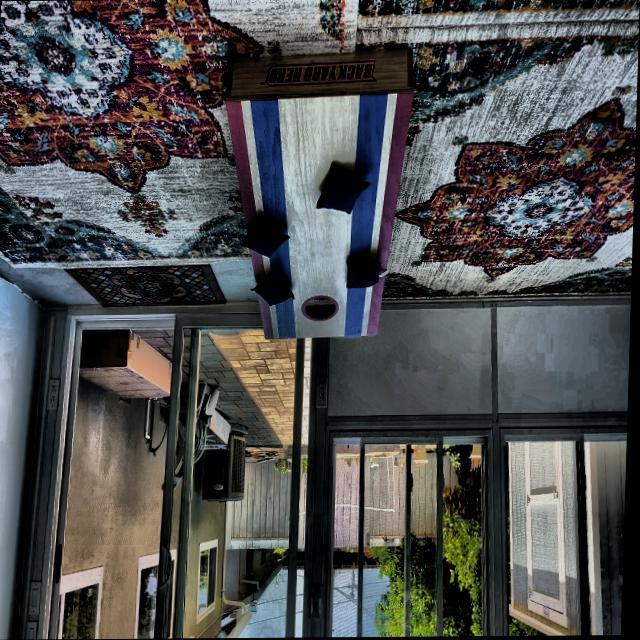blue-bean-bag: (316, 164, 370, 215), (242, 218, 291, 259), (251, 277, 297, 307), (347, 259, 382, 291)
board: (258, 96, 389, 338)
hole: (302, 295, 340, 323)
